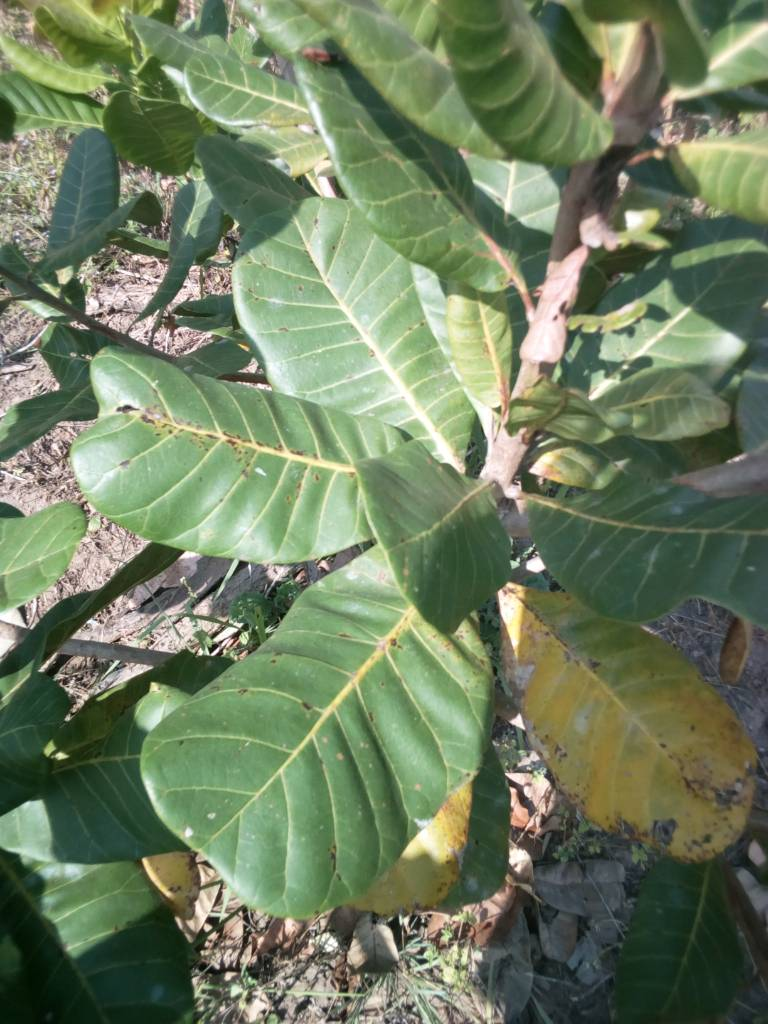Anthracnose: (511, 600, 761, 864), (82, 341, 377, 561)
